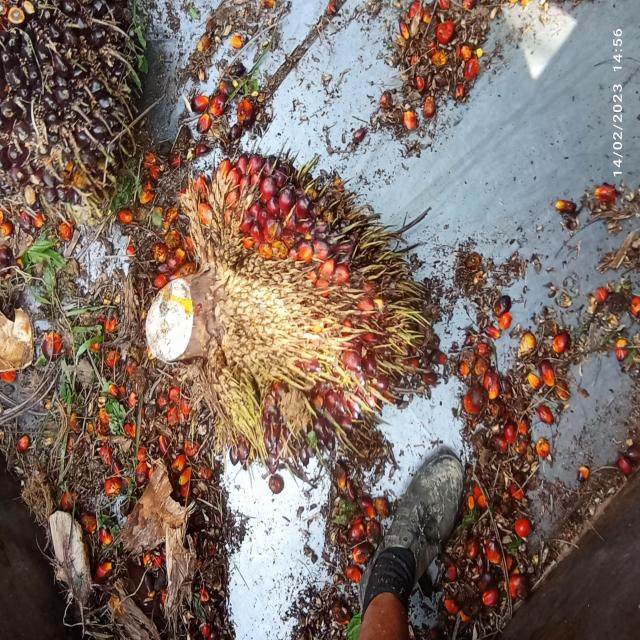fraksi 1: (87, 149, 453, 518)
